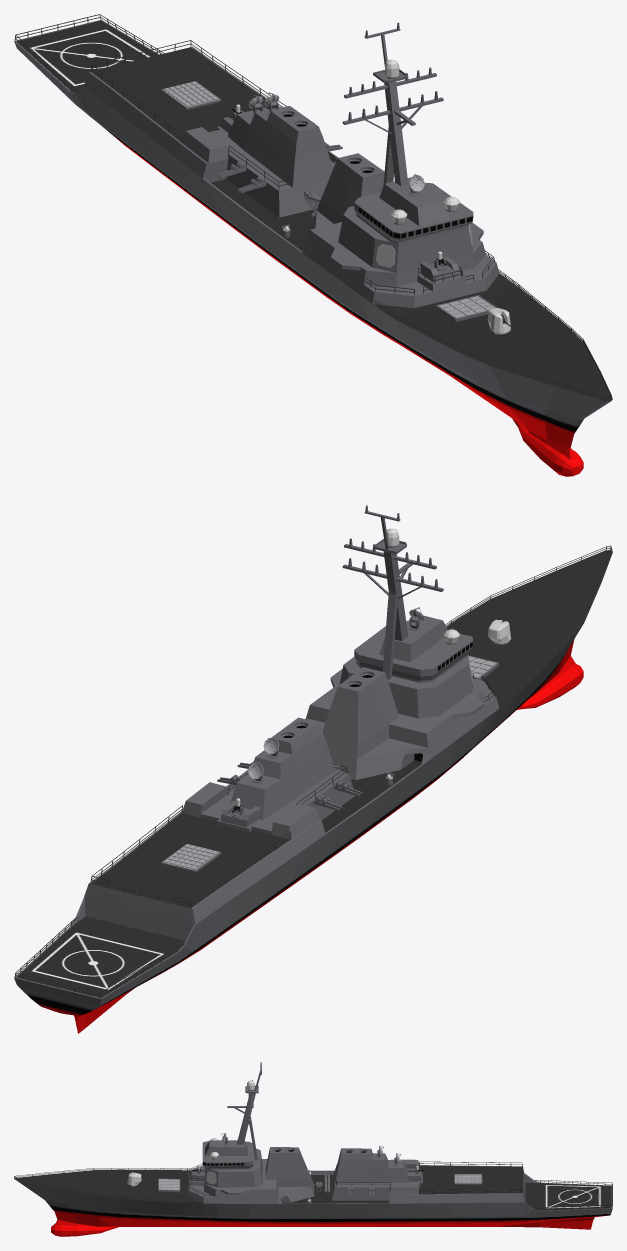
3 views of the same model, one above another, from view 1: azimuth 30°, elevation 25°; view 2: azimuth 150°, elevation 25°; view 3: azimuth 270°, elevation 25° (orthographic). The views are drawn at different scales.
Parts seen in each view (by area): view 1: Cube; view 2: Cube, Cube.007, Cube.008; view 3: Cube.
Boxes of the visible parts, x1=… form: Cube: x1=14, y1=14, x2=612, y2=476; Cube: x1=14, y1=505, x2=612, y2=1033; Cube.007: x1=91, y1=888, x2=123, y2=924; Cube.008: x1=154, y1=903, x2=187, y2=940; Cube: x1=14, y1=1062, x2=612, y2=1236.
Bounding box in the file's own units: 2272 × 4780 × 15371.
